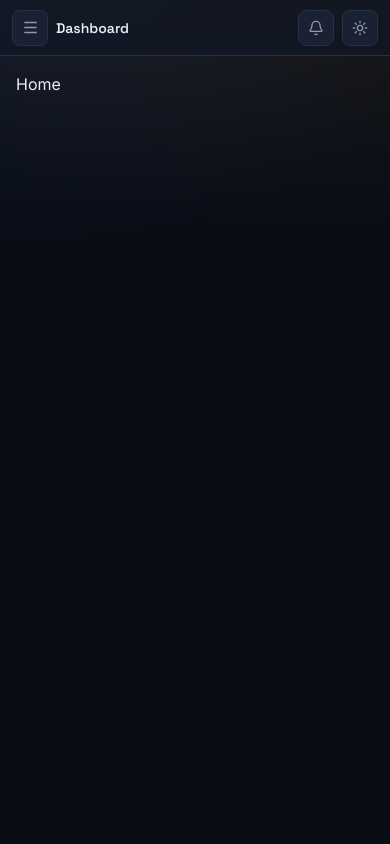
mobile menu › opens a navigation drawer and closes it with the close button or Escape
The image size is (390, 844).
Click the button named "Open menu".
click(30, 28)  # box x1=12 y1=10 x2=48 y2=46
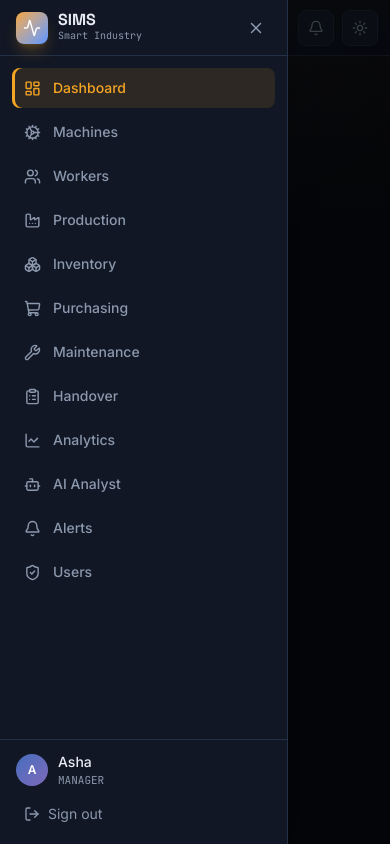
Expected: the dialog named "Navigation" is shown
Click the button named "Close menu".
click(256, 28)  # box x1=241 y1=12 x2=271 y2=42
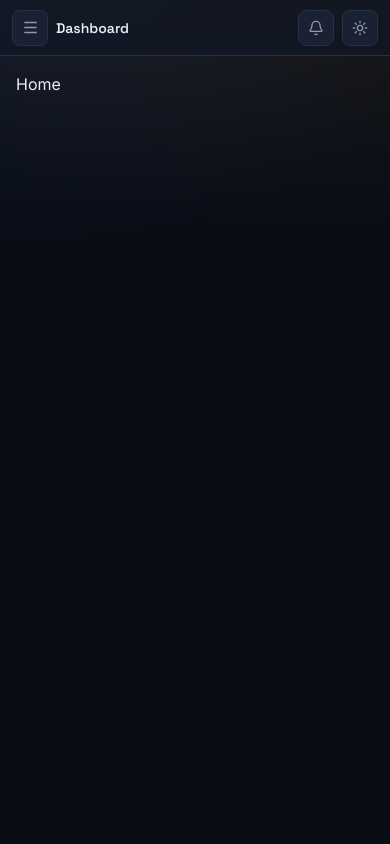
Expected: the dialog "Navigation" is gone
Click the button named "Open menu".
click(30, 28)  # box x1=12 y1=10 x2=48 y2=46
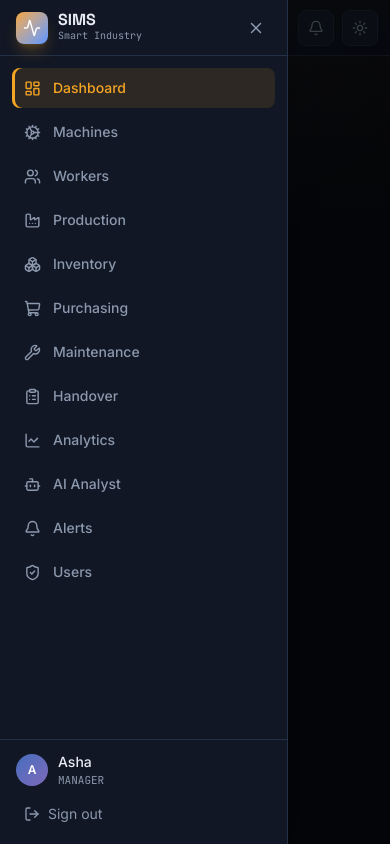
Press Escape
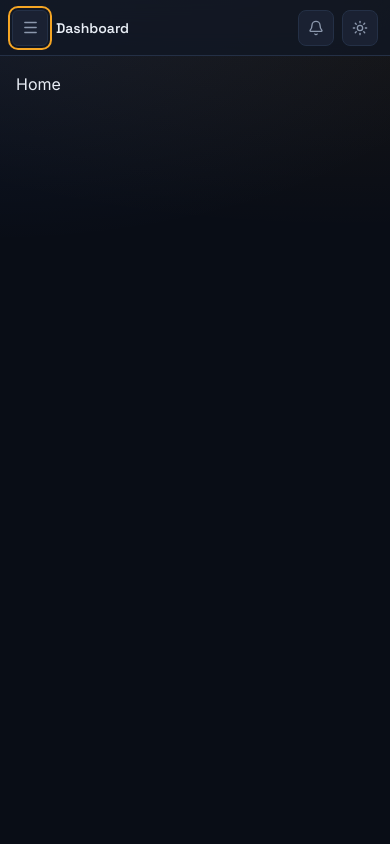
Expected: the dialog "Navigation" is gone
